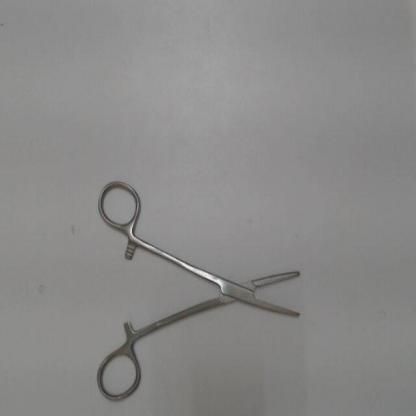Mayo Needle Holder: (92, 176, 315, 409)
